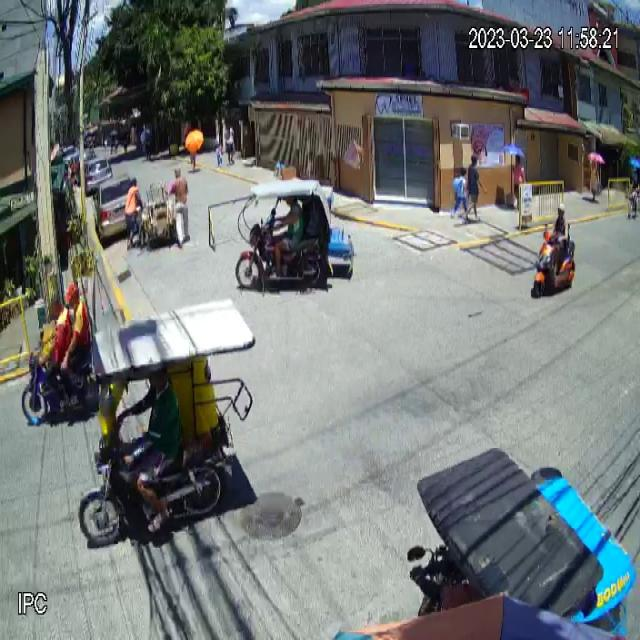Motorcycle: (531, 224, 576, 298)
Tricycle: (78, 299, 256, 552), (235, 178, 355, 294)
